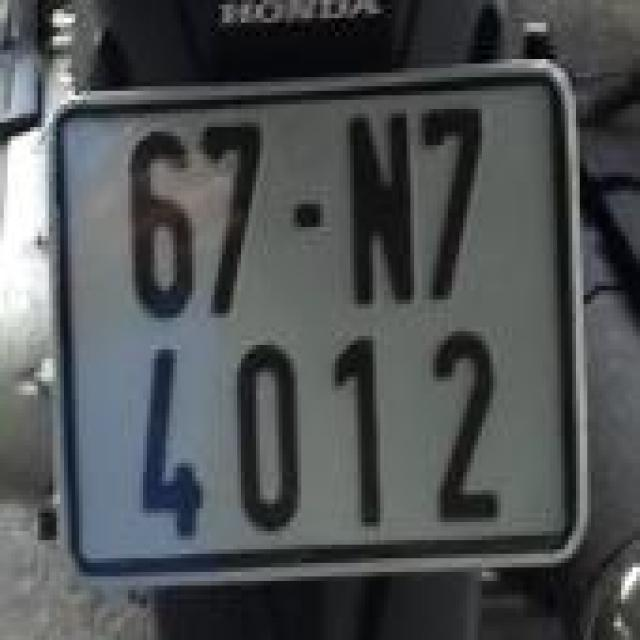0: (228, 333, 314, 542)
1: (324, 322, 406, 540)
2: (422, 313, 508, 531)
4: (134, 343, 212, 547)
6: (113, 118, 196, 331)
7: (194, 111, 269, 329), (418, 95, 489, 314)
N: (337, 93, 420, 325)
